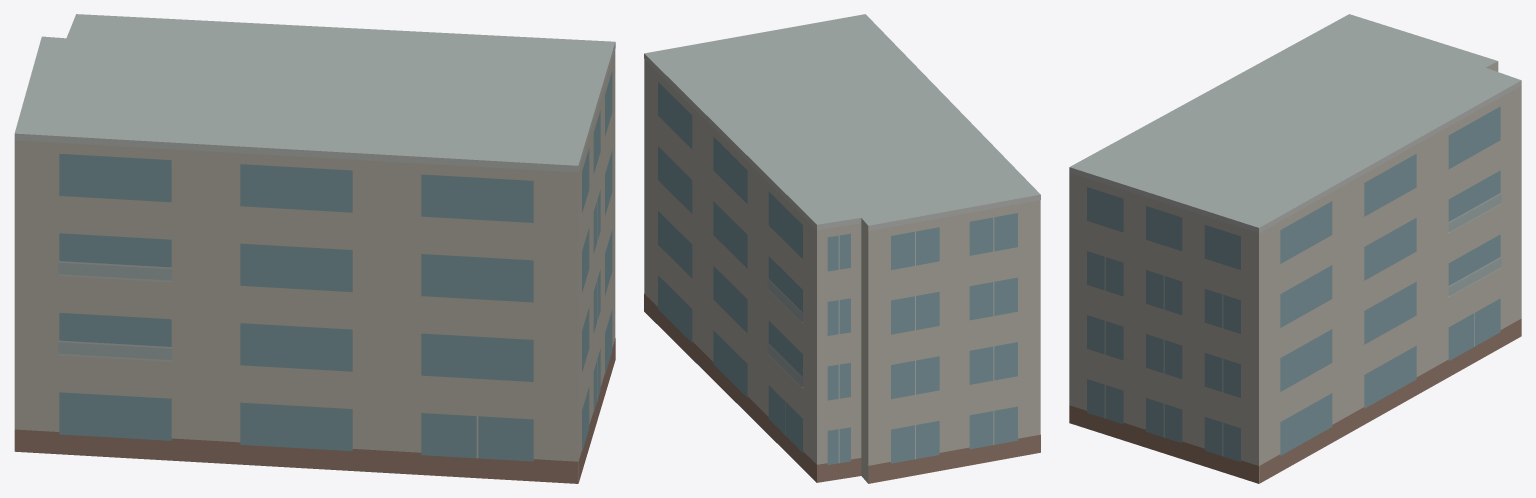
The model's file is survey-upis-32641675.glb.
The picture shows the model from 3 angles, left to right: view 1: azimuth 30°, elevation 25°; view 2: azimuth 150°, elevation 25°; view 3: azimuth 270°, elevation 25°; orthographic projection. The views are drawn at different scales.
Parts seen in each view (by area): view 1: survey-upis-32641675.tmp; view 2: survey-upis-32641675.tmp; view 3: survey-upis-32641675.tmp.
Part boxes in pixels (x1=…): survey-upis-32641675.tmp: x1=14, y1=14, x2=615, y2=483; survey-upis-32641675.tmp: x1=644, y1=14, x2=1040, y2=483; survey-upis-32641675.tmp: x1=1069, y1=14, x2=1521, y2=483.
Bounding box in the file's own units: 20.98 × 11.7 × 18.75.
